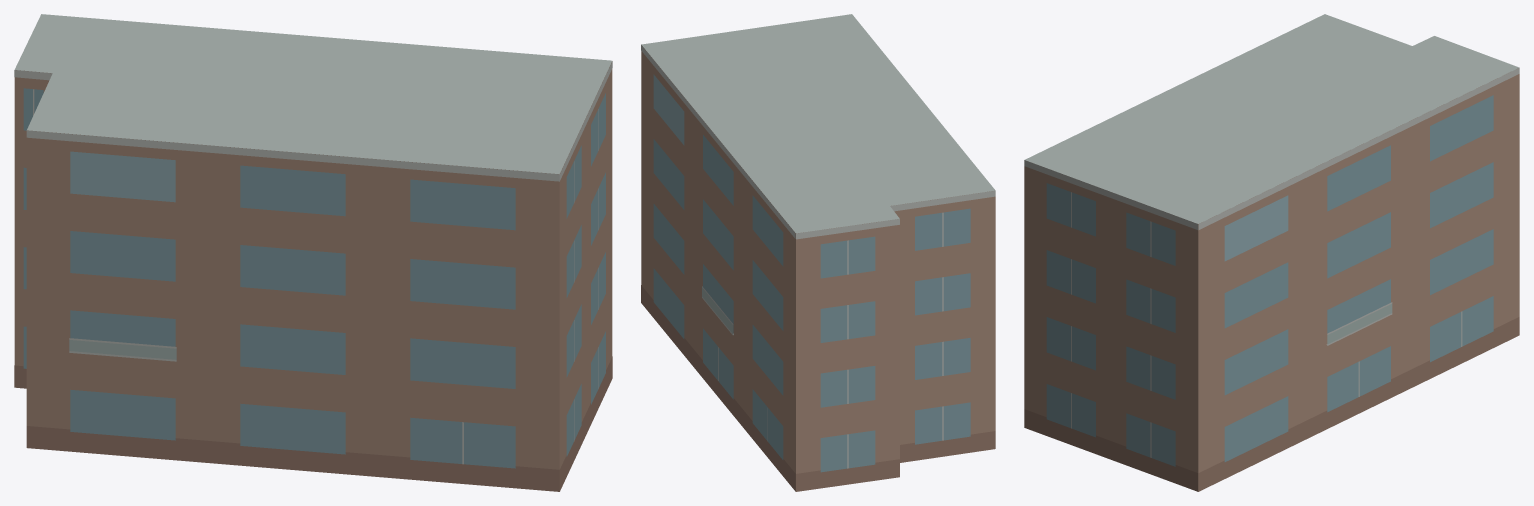
The model's file is survey-upis-32525652.glb.
3 views of the same model, side by side, from view 1: azimuth 30°, elevation 25°; view 2: azimuth 150°, elevation 25°; view 3: azimuth 270°, elevation 25° (orthographic). The views are drawn at different scales.
Parts seen in each view (by area): view 1: survey-upis-32525652.tmp; view 2: survey-upis-32525652.tmp; view 3: survey-upis-32525652.tmp.
Part boxes in pixels (x1,y1,x2,y2): survey-upis-32525652.tmp: (14, 14, 612, 491); survey-upis-32525652.tmp: (641, 14, 995, 491); survey-upis-32525652.tmp: (1024, 14, 1519, 491).
Size of the model in its own units: 17.68 by 10.5 by 17.6.
